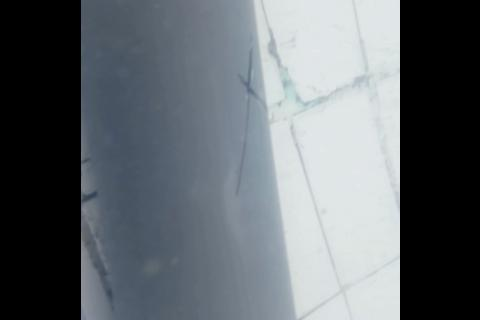keretakan: (228, 31, 267, 199)
